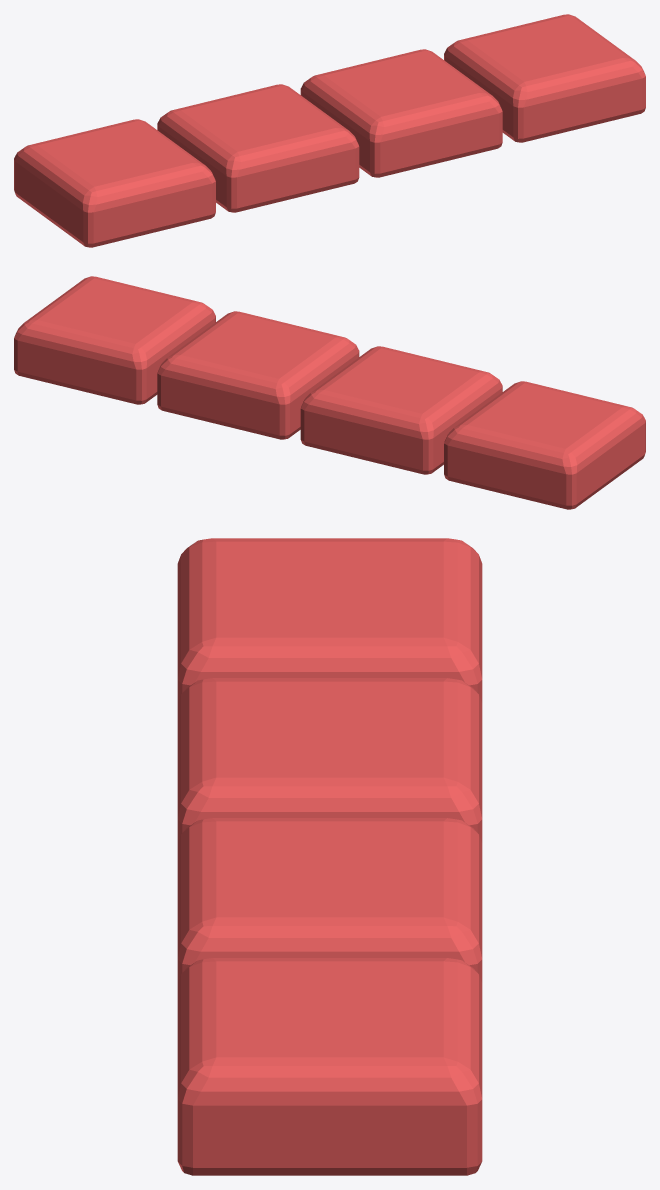
File: KO_Tetris_2.fbx
3 renders of one model, top to bottom at view 1: azimuth 30°, elevation 25°; view 2: azimuth 150°, elevation 25°; view 3: azimuth 270°, elevation 25°, orthographic. The views are drawn at different scales.
Parts seen in each view (by area): view 1: Tetris_I; view 2: Tetris_I; view 3: Tetris_I.
Part boxes in pixels (box(x1,y1,x2,y2)): Tetris_I: box(14, 14, 645, 247); Tetris_I: box(14, 276, 645, 509); Tetris_I: box(177, 538, 482, 1175).
Size of the model in its own units: 392 by 36 by 92.
